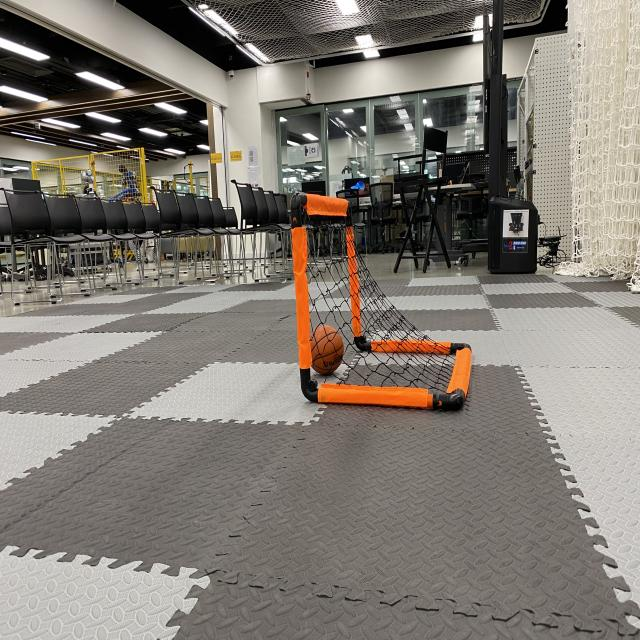ball: (306, 321, 347, 379)
gate: (285, 182, 477, 419)
